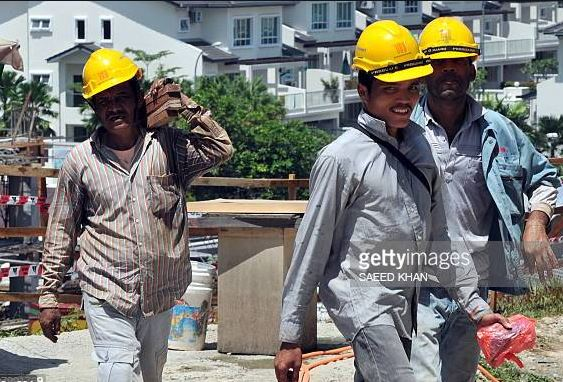Safety Helmet: (353, 14, 429, 144), (70, 37, 150, 150), (417, 8, 485, 116)
